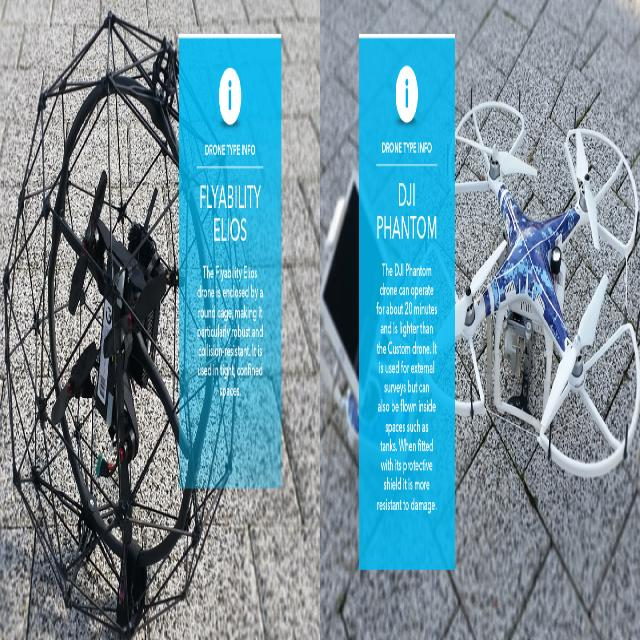drone: (419, 100, 640, 505)
